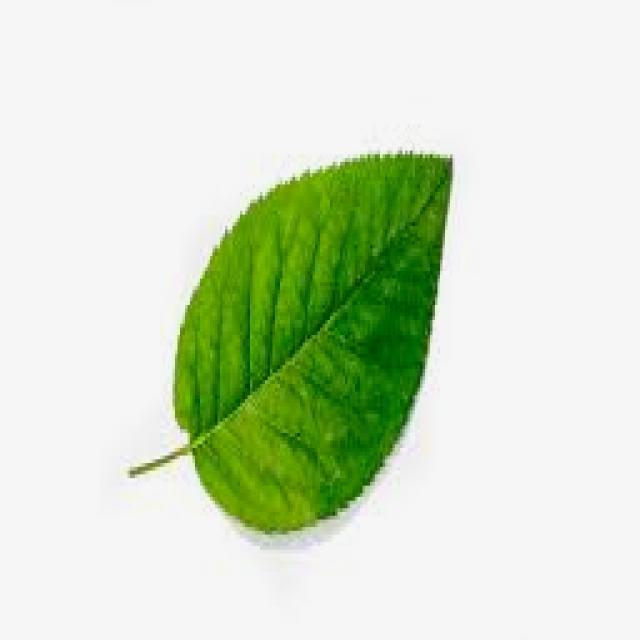leaf: (130, 148, 454, 537)
